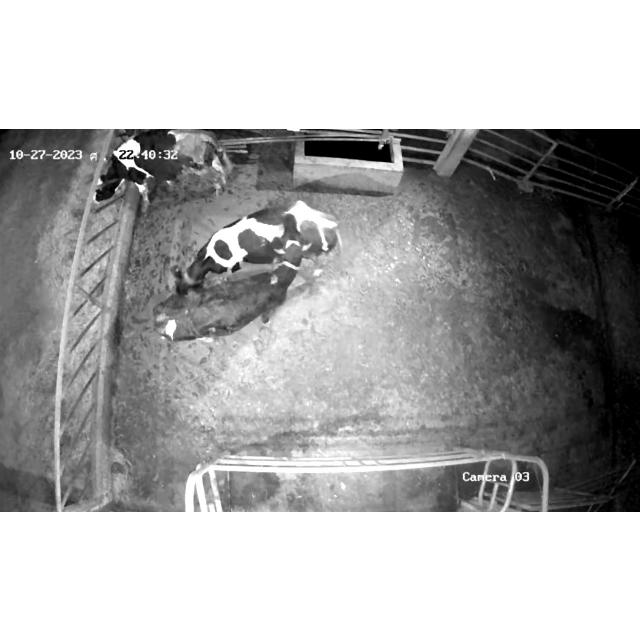eat: (72, 148, 156, 214)
propping: (262, 210, 312, 290)
stand: (160, 196, 372, 288)
